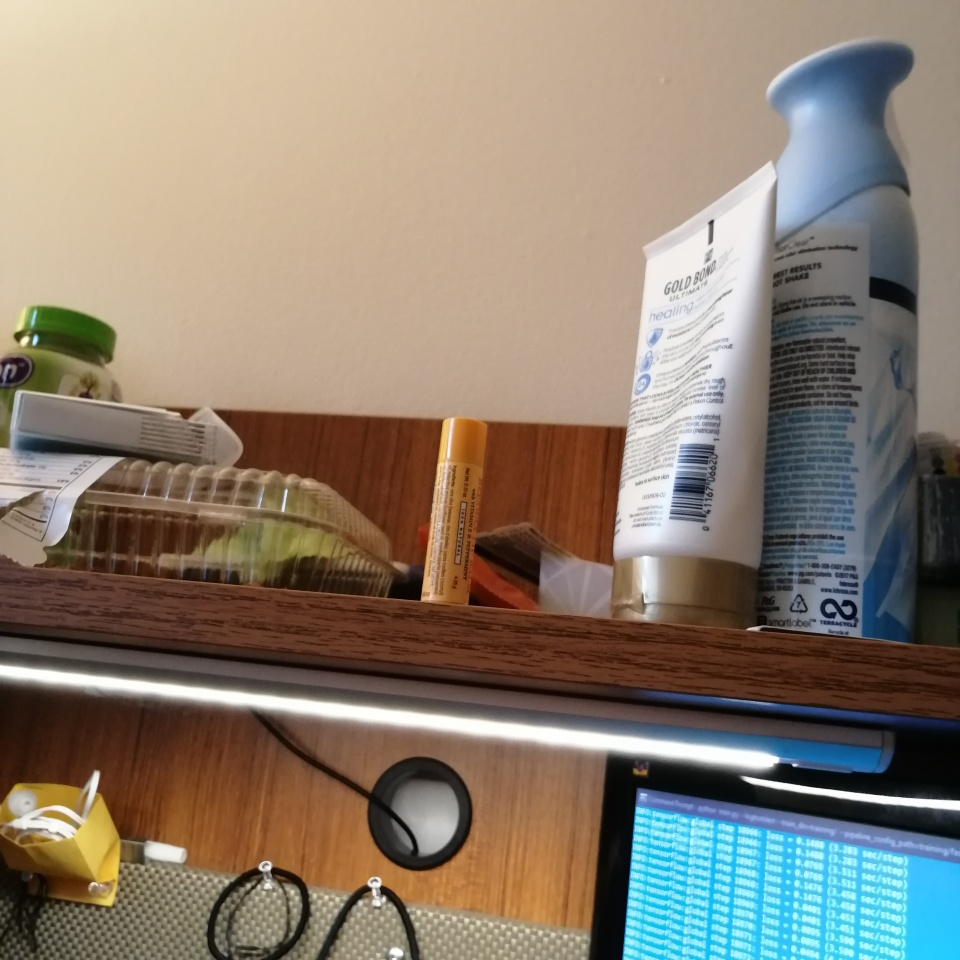chapstick: (420, 417, 487, 606)
